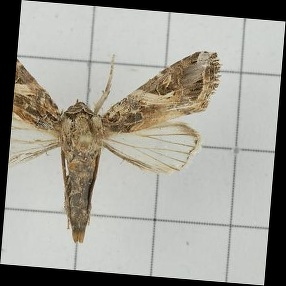Spodoptera litura: (11, 43, 215, 246)
